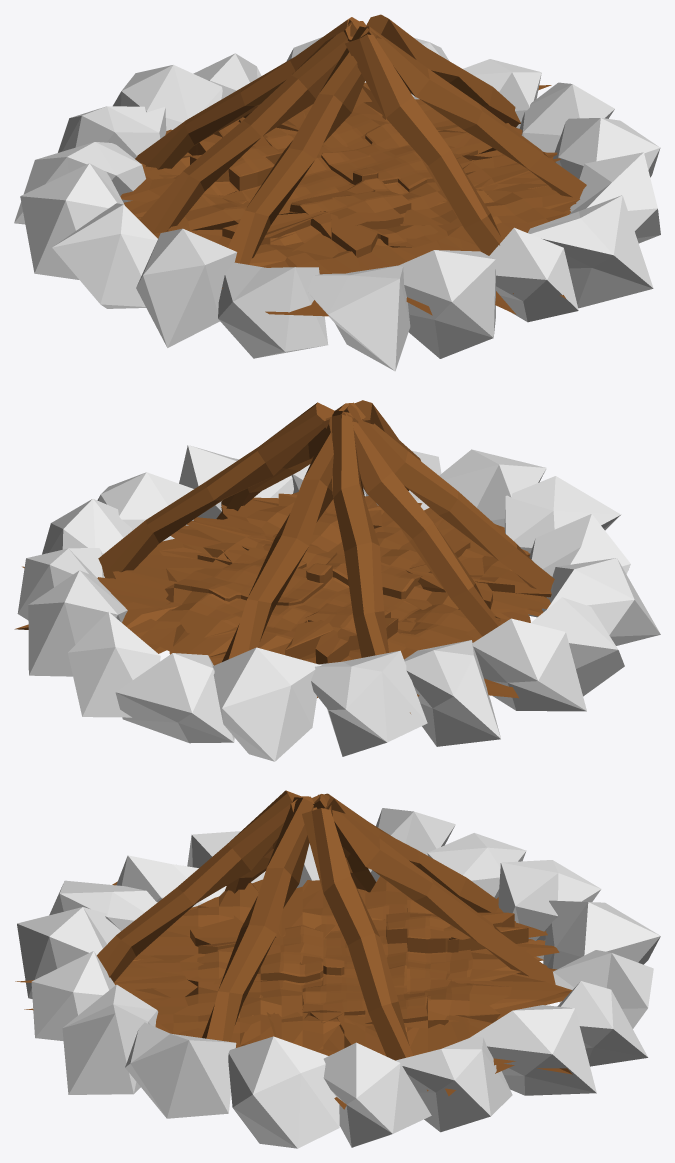
The model's file is fireplace.fbx.
3 renders of one model, top to bottom at view 1: azimuth 30°, elevation 25°; view 2: azimuth 150°, elevation 25°; view 3: azimuth 270°, elevation 25°, orthographic.
Visible parts, largest first — view 1: Icosphere, Cylinder, Cube; view 2: Icosphere, Cube, Cylinder; view 3: Icosphere, Cube, Cylinder.
Boxes of the visible parts, box(x1,y1,x2,y2) form: Icosphere: box(14, 37, 660, 371); Cylinder: box(135, 14, 586, 293); Cube: box(120, 82, 579, 316); Icosphere: box(17, 445, 660, 761); Cube: box(14, 492, 551, 713); Cylinder: box(98, 400, 554, 661); Icosphere: box(17, 808, 660, 1148); Cube: box(15, 876, 572, 1109); Cylinder: box(97, 790, 553, 1060).
Bounding box in the file's own units: 118 × 45.98 × 115.
